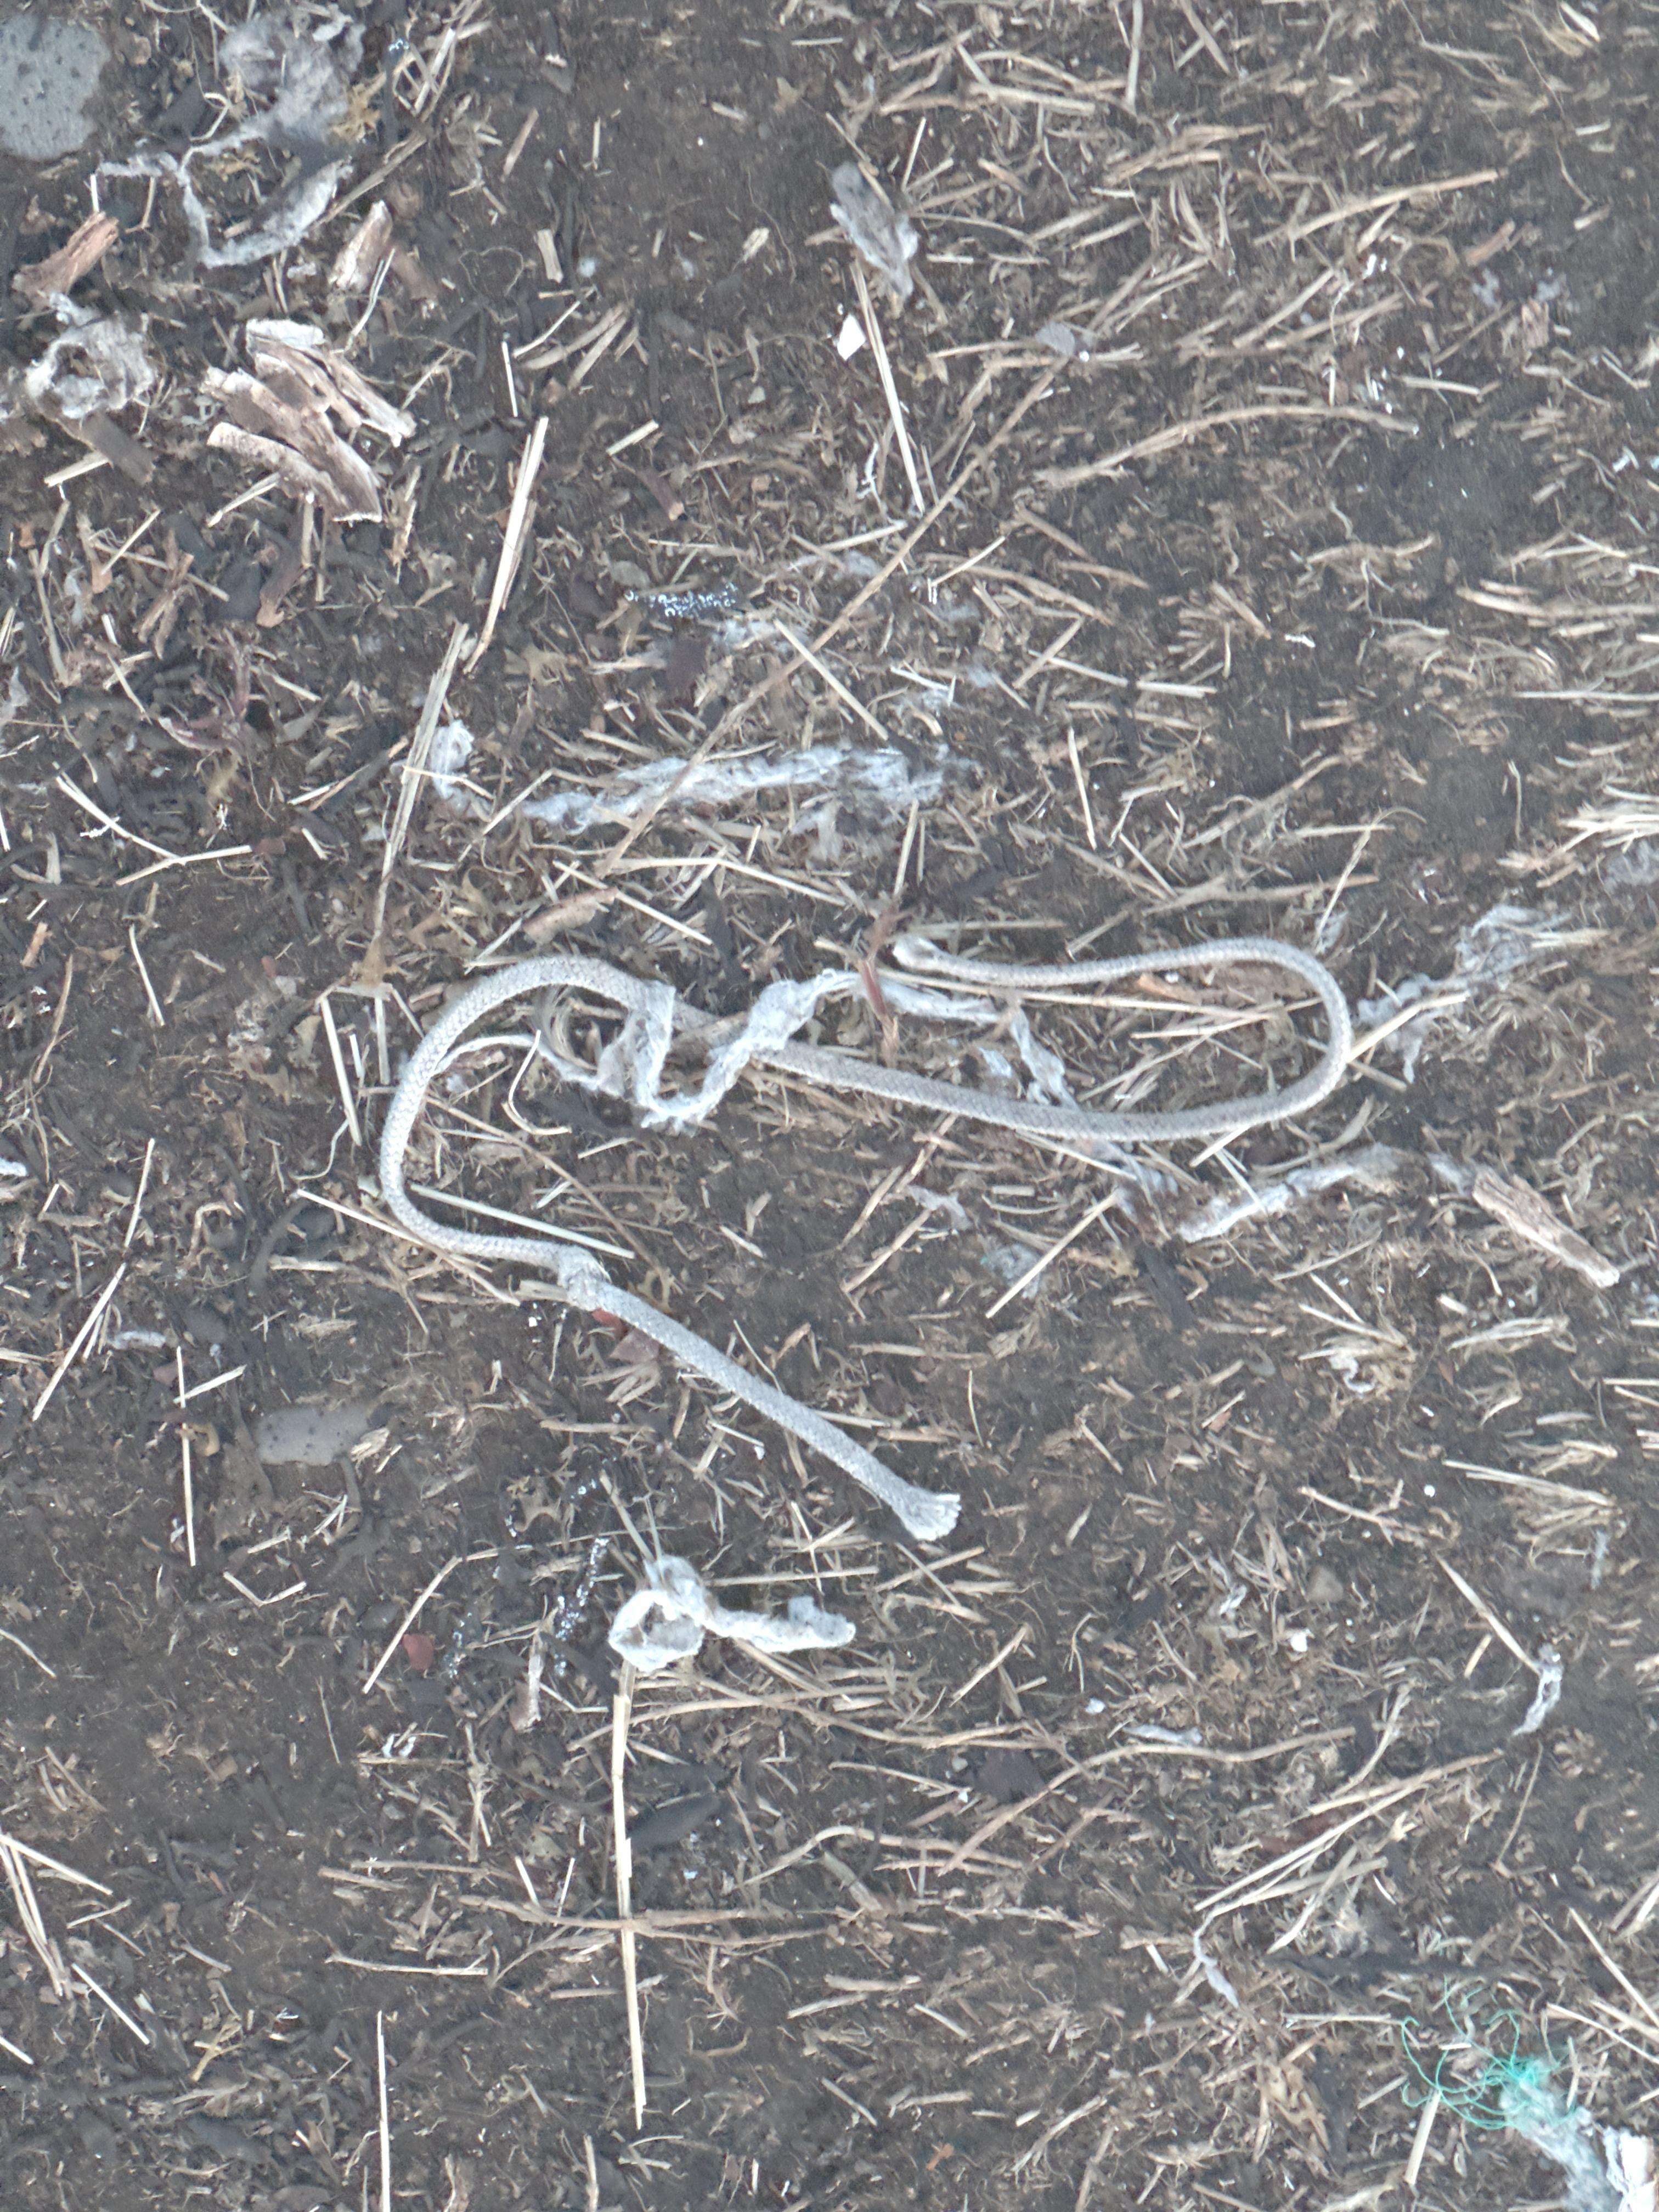trash: (380, 937, 1352, 1543), (523, 747, 972, 834), (610, 1555, 856, 1672)
